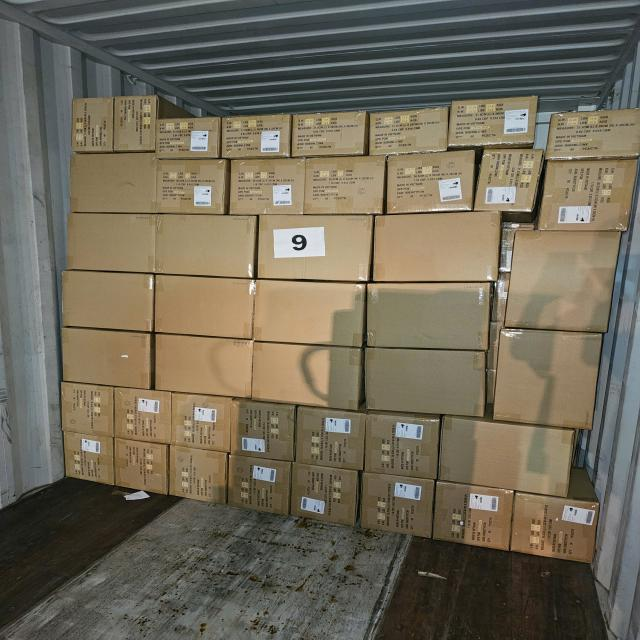Carton: (508, 229, 620, 333), (442, 416, 578, 496), (497, 330, 602, 433), (373, 215, 503, 285), (366, 284, 492, 354), (366, 344, 486, 415), (256, 212, 374, 280), (253, 282, 365, 349), (252, 343, 364, 410), (544, 158, 637, 230), (156, 273, 258, 338), (157, 332, 256, 397), (156, 217, 258, 280), (513, 494, 600, 565), (60, 268, 154, 331), (62, 328, 156, 390), (66, 210, 157, 272), (68, 154, 158, 216), (386, 154, 474, 217), (436, 484, 514, 554), (362, 410, 437, 479), (358, 472, 432, 538), (307, 158, 387, 217), (543, 112, 640, 160), (449, 98, 536, 150), (294, 408, 363, 470), (231, 160, 305, 217), (477, 152, 543, 214), (292, 468, 361, 527), (230, 402, 296, 462), (158, 161, 228, 217), (370, 106, 449, 154), (229, 456, 293, 515), (158, 106, 224, 161), (171, 393, 232, 452), (290, 113, 365, 159), (115, 388, 173, 446), (169, 450, 228, 507), (219, 116, 289, 160), (114, 442, 169, 498), (59, 383, 114, 436), (64, 435, 116, 486), (115, 99, 158, 154), (72, 98, 112, 153)
